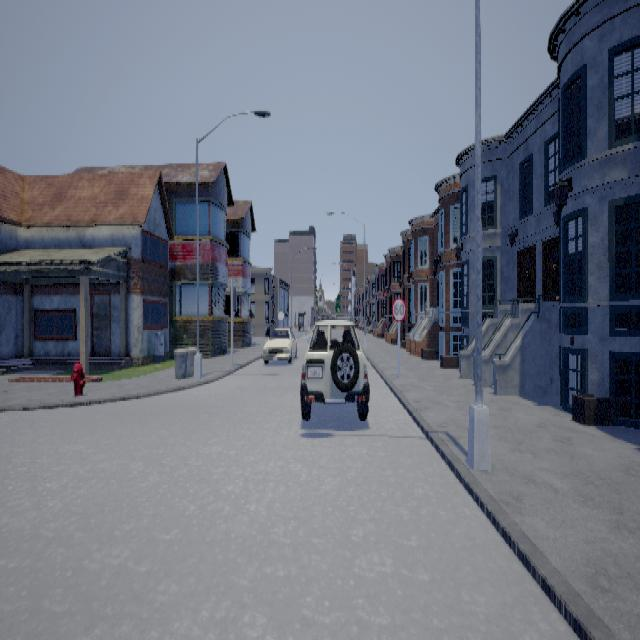traffic_sign: (391, 296, 405, 320)
vehicle: (299, 312, 369, 419), (261, 327, 297, 364)
